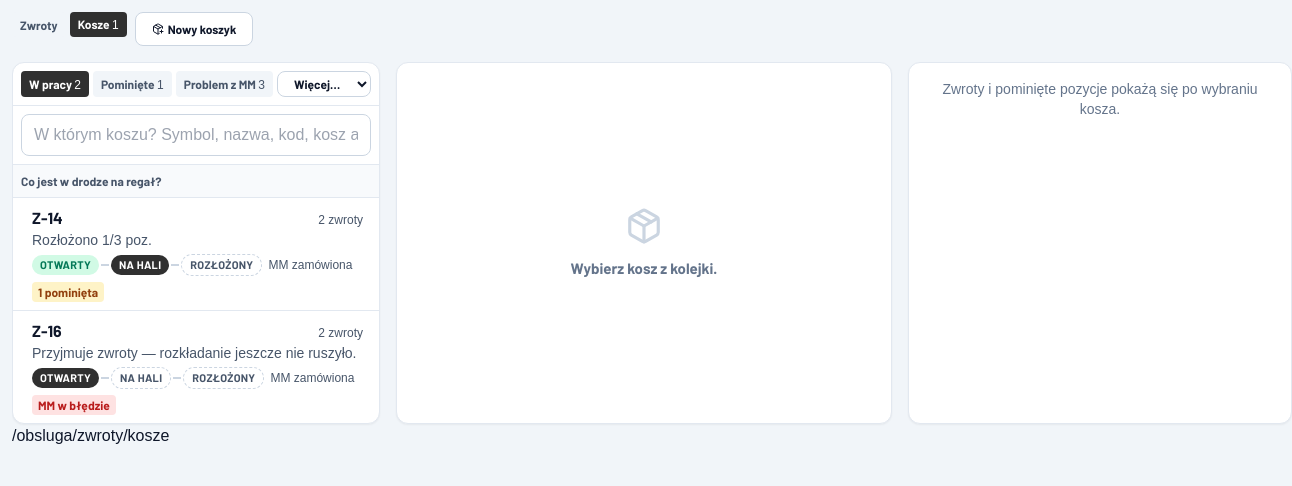
Scenario: Kosze w zakładce Zwroty › otwarcie ekranu i wejście w kosz nie wysyłają ani jednego zapisu
The image size is (1292, 486).
What coordinates should you click on to do the following:
click the button "Z-14"
I would click on:
 (196, 254)
Its box is [13,198,379,310].
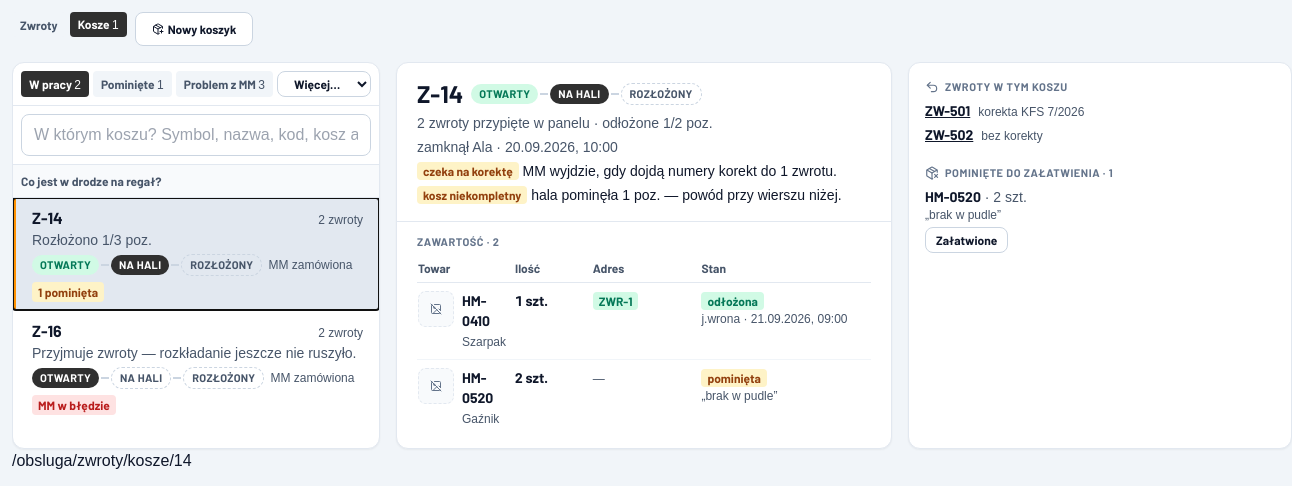
Result: the heading "Z-14" is shown at [417,79,463,109]
